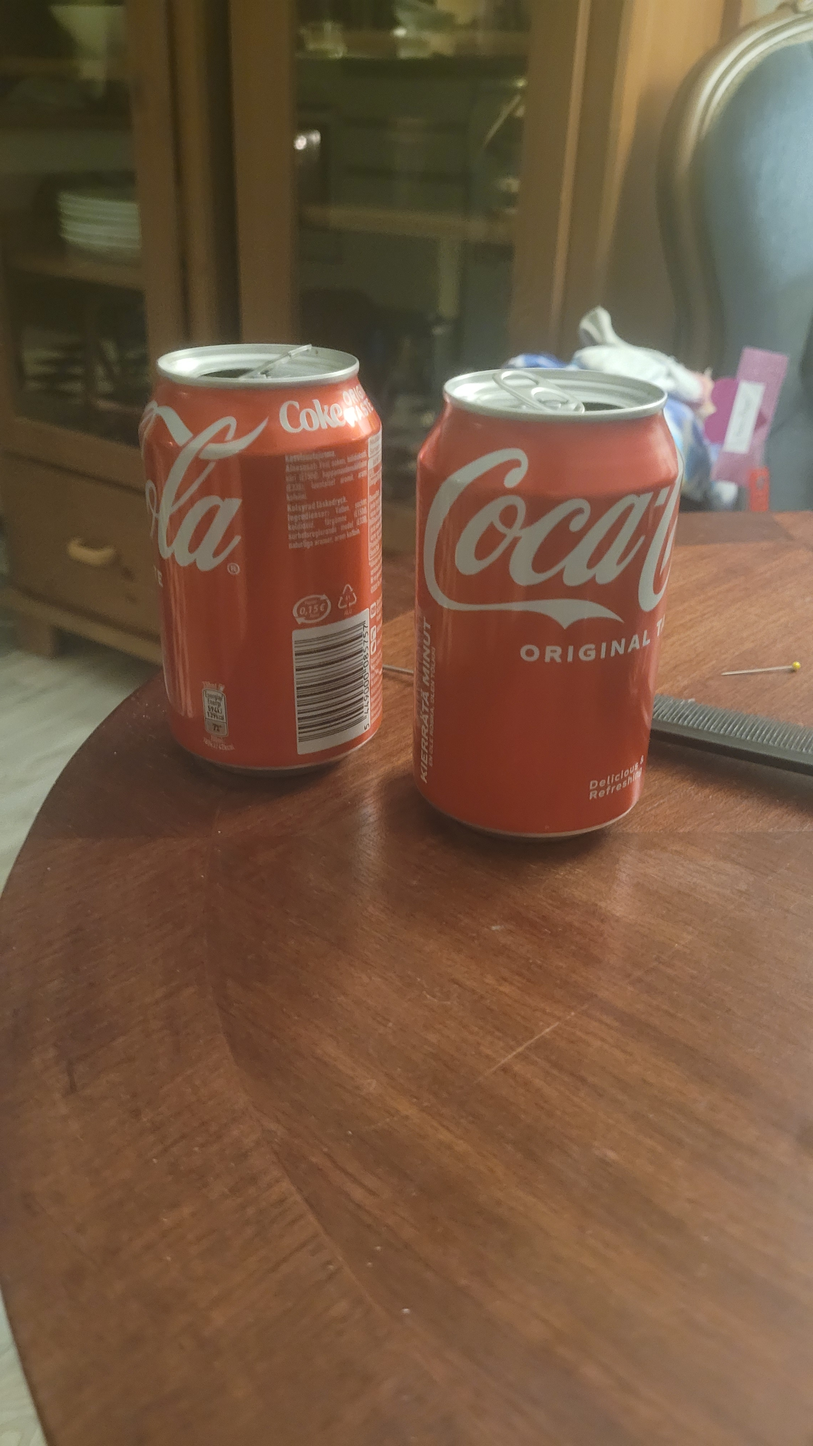Pantburk: (413, 366, 685, 844), (138, 343, 384, 779)
